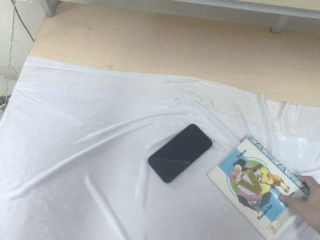book: (206, 135, 311, 240)
phone: (147, 123, 213, 185)
